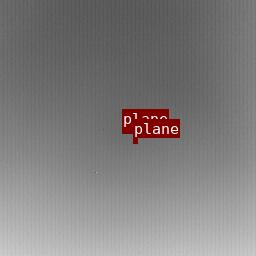plane: (122, 128, 134, 133), (133, 138, 137, 142)
